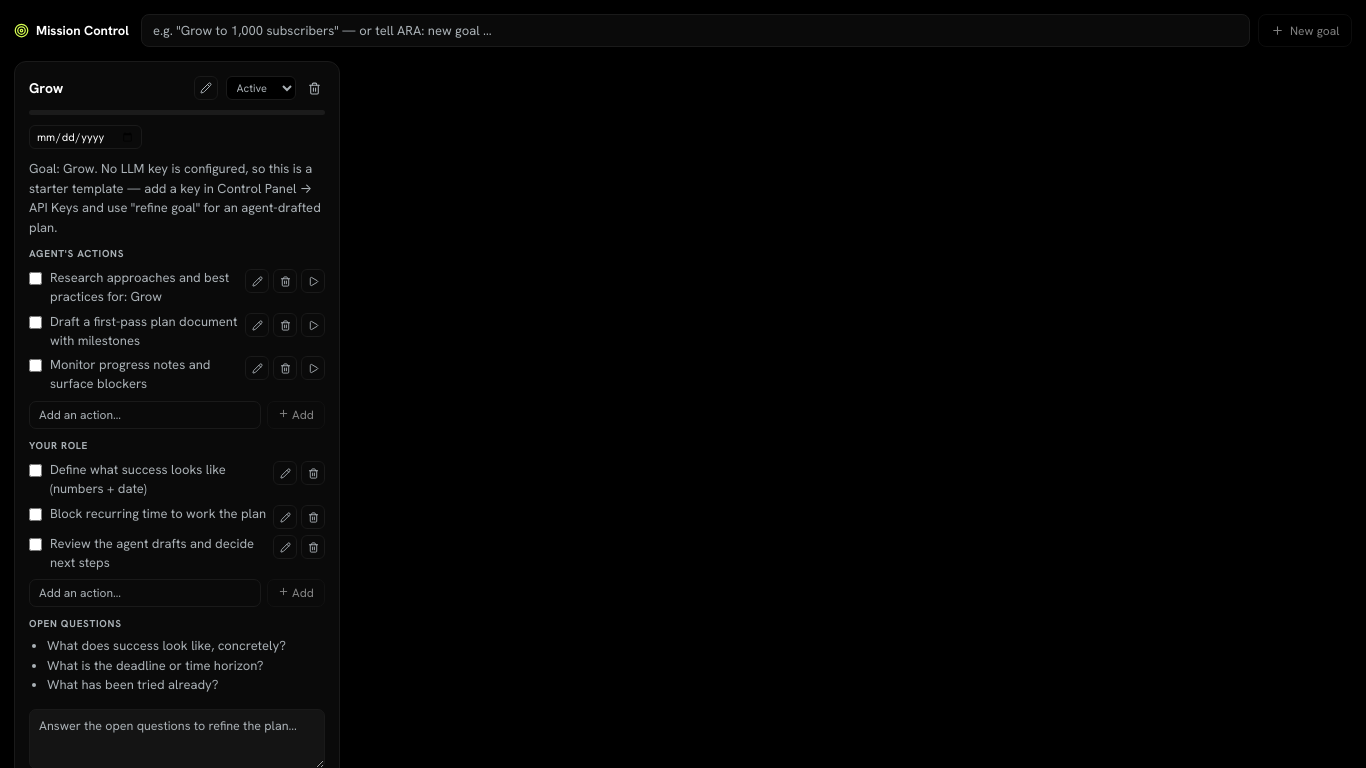
target date + due badge › +3 days
Type "2026-01-18" into the date field named "Target date for Grow".
click(86, 137); type("2026-01-18")  # box [29,125,142,149]
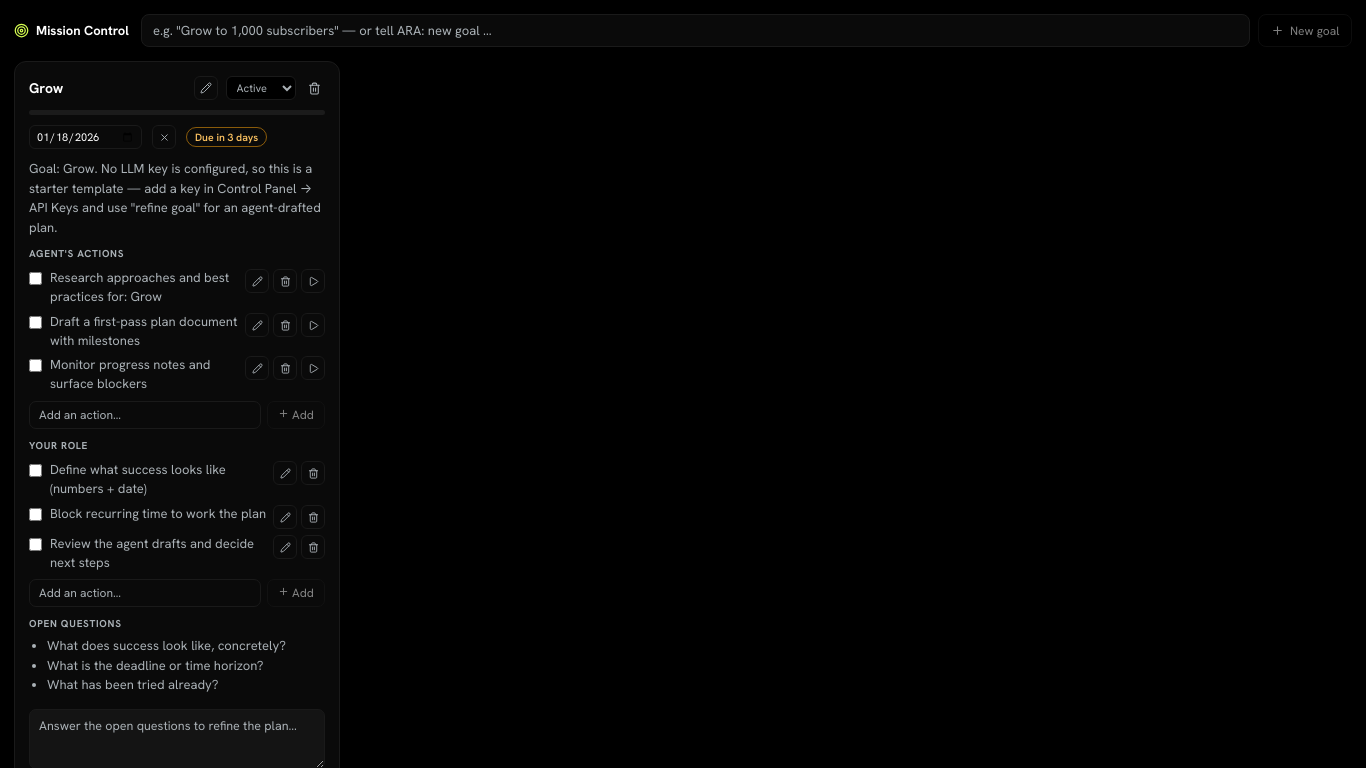
Now the text "Due in 3 days" is shown, box [186,127,267,147]
